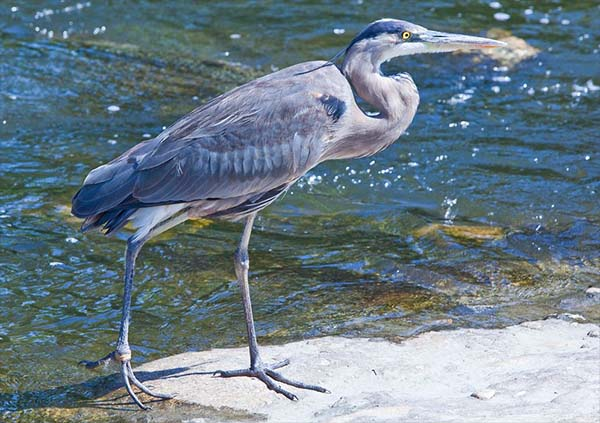heron: (66, 15, 512, 423)
